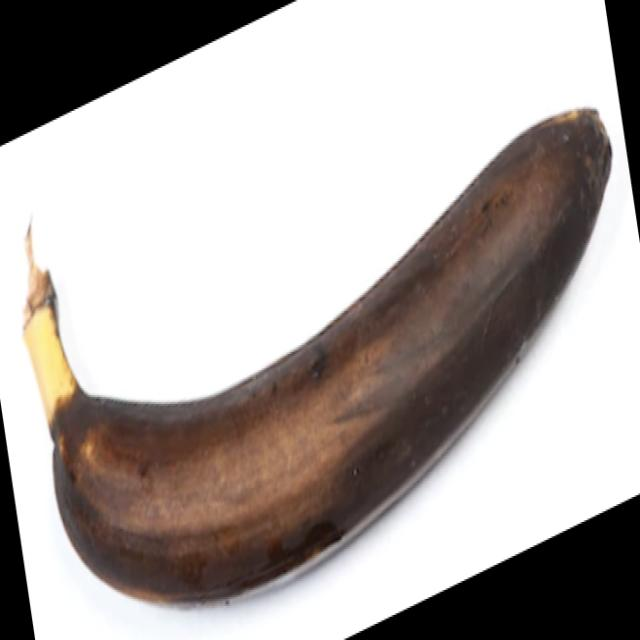Rotten: (16, 109, 612, 609)
